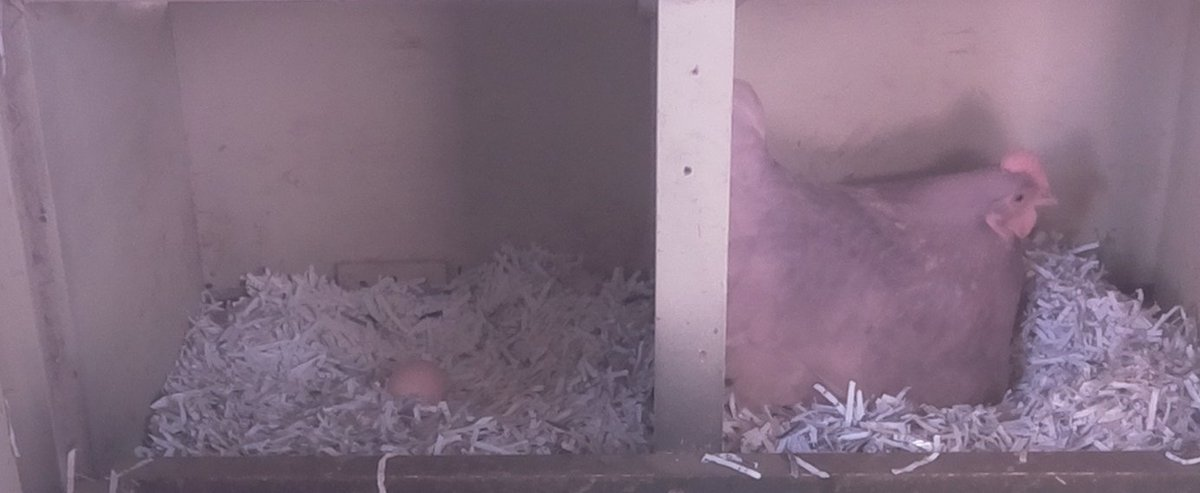egg: (378, 360, 455, 409)
hen: (729, 74, 1062, 424)
